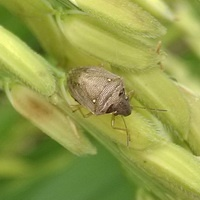insect: (67, 66, 133, 145)
